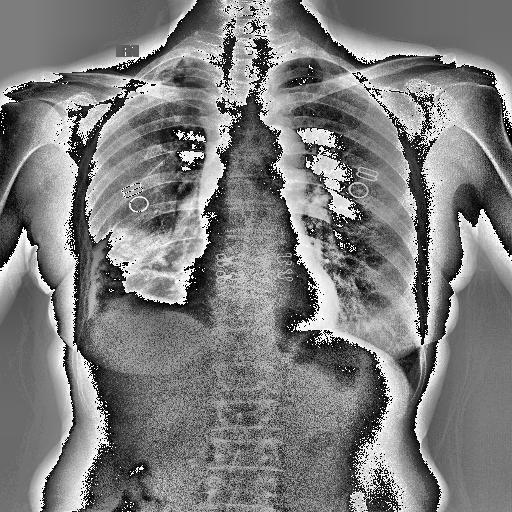0- Aortic enlargement: (250, 123, 306, 185)
10- Pleural effusion: (78, 254, 126, 314), (76, 286, 132, 332)
11- Pleural thickening: (82, 225, 114, 323), (85, 223, 118, 316), (86, 220, 118, 276), (142, 52, 198, 80), (150, 54, 204, 74), (141, 54, 181, 74)
13- Pulmonary fibrosis: (134, 65, 208, 129), (156, 67, 198, 82)
2- Calcification: (82, 225, 114, 323), (85, 223, 118, 316), (86, 220, 118, 276)
4- Consolidation: (104, 227, 176, 281)
7- Lung Opacity: (103, 223, 194, 305), (100, 214, 178, 299), (104, 227, 176, 281)
